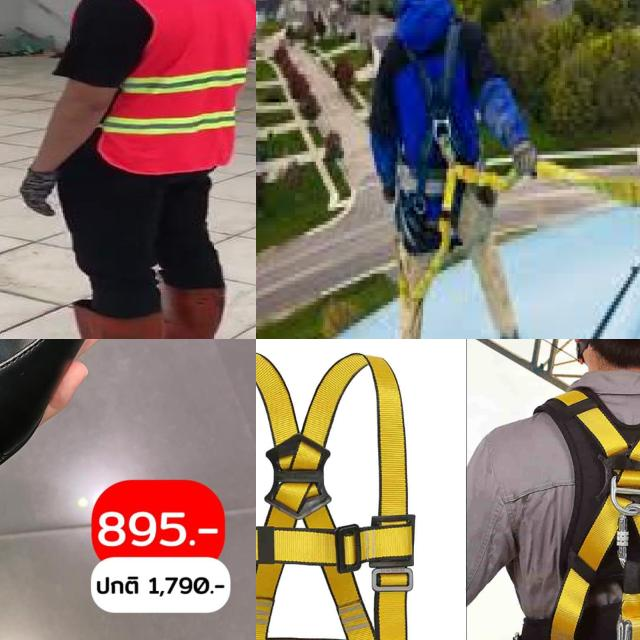Harness: (256, 348, 450, 640), (387, 9, 532, 308), (508, 384, 640, 640)
Sandals: (0, 339, 256, 599)
boots: (20, 304, 158, 339), (159, 282, 232, 339)
hand_glove: (18, 168, 59, 218)
person: (8, 0, 256, 339)
vest: (91, 0, 256, 171)
